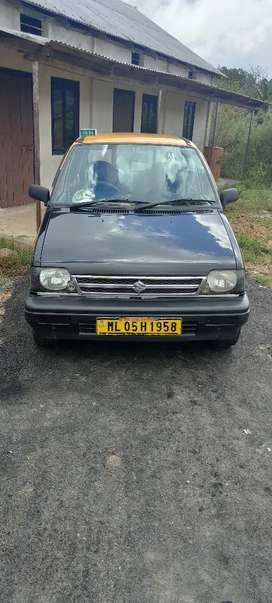ML05H1958: (97, 319, 180, 335)
